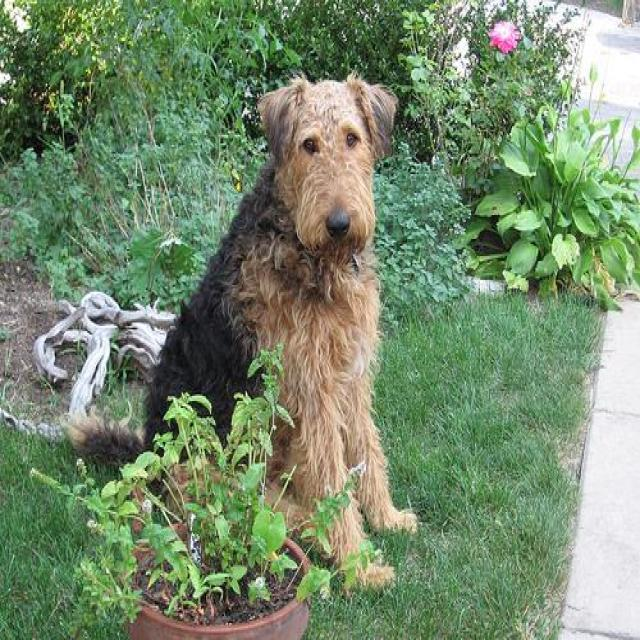airedale: (62, 70, 418, 596)
